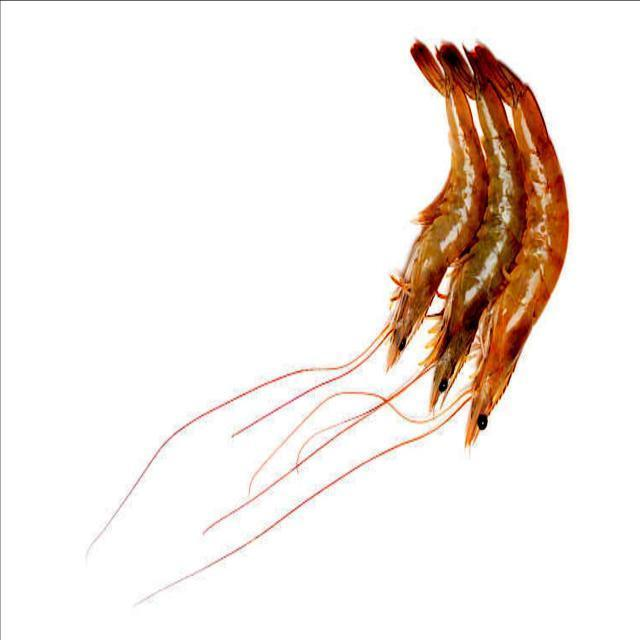shrimp: (466, 49, 568, 446), (431, 54, 526, 408), (388, 43, 487, 368)
